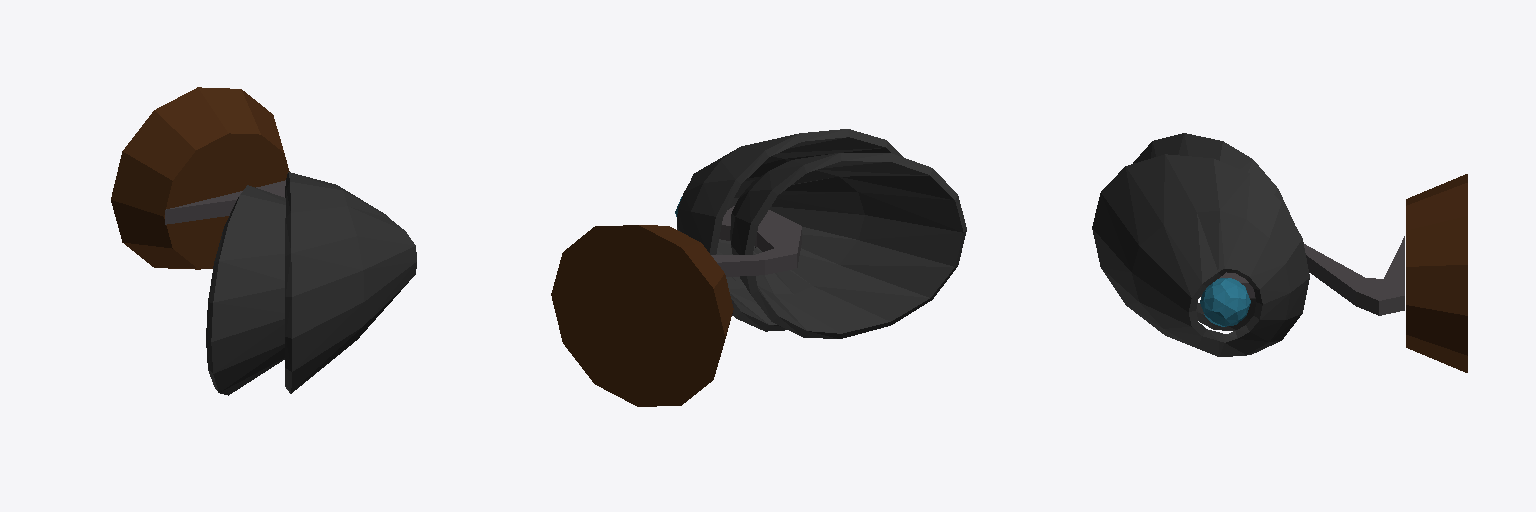
The model's file is emitter.obj.
The picture shows the model from 3 angles: view 1: azimuth 30°, elevation 25°; view 2: azimuth 150°, elevation 25°; view 3: azimuth 270°, elevation 25°; orthographic projection.
Parts seen in each view (by area): view 1: Cylinder_Cylinder_Material.001, Cone_Cone_cover, Cone.001_Cone.001_cover, Plane_Plane_Material.003; view 2: Cone.001_Cone.001_cover, Cylinder_Cylinder_Material.001, Cone_Cone_cover, Plane_Plane_Material.003; view 3: Cone_Cone_cover, Cylinder_Cylinder_Material.001, Plane_Plane_Material.003, Cone.001_Cone.001_cover, Icosphere_Icosphere_ball.
Part boxes in pixels (x1,y1,x2,y2): Cylinder_Cylinder_Material.001: (111,87,289,269); Cone_Cone_cover: (285,172,416,393); Cone.001_Cone.001_cover: (206,185,285,395); Plane_Plane_Material.003: (165,180,285,224); Cone.001_Cone.001_cover: (730,153,966,338); Cylinder_Cylinder_Material.001: (551,225,733,406); Cone_Cone_cover: (677,129,902,331); Plane_Plane_Material.003: (711,206,801,315); Cone_Cone_cover: (1092,154,1309,356); Cylinder_Cylinder_Material.001: (1406,174,1467,372); Plane_Plane_Material.003: (1201,236,1404,315); Cone.001_Cone.001_cover: (1133,133,1294,330); Icosphere_Icosphere_ball: (1200,278,1250,326).
Bounding box in the file's own units: 1.57 × 1.2 × 2.08.